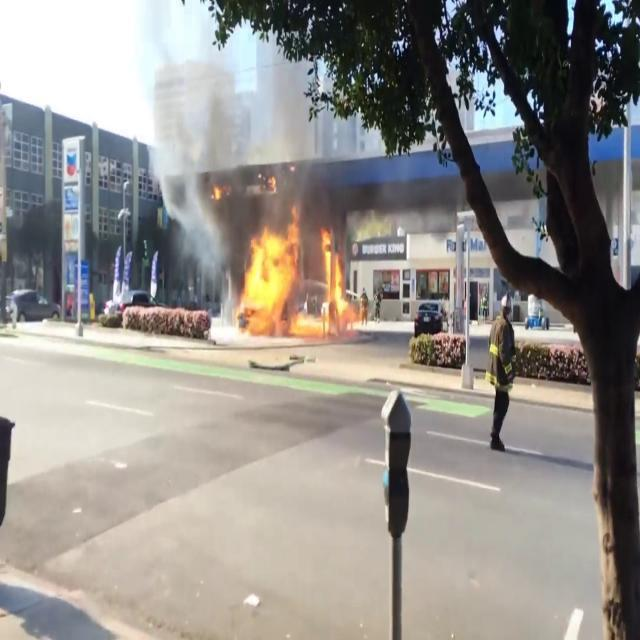Fire: (233, 204, 365, 341)
Smoke: (130, 5, 254, 296)
